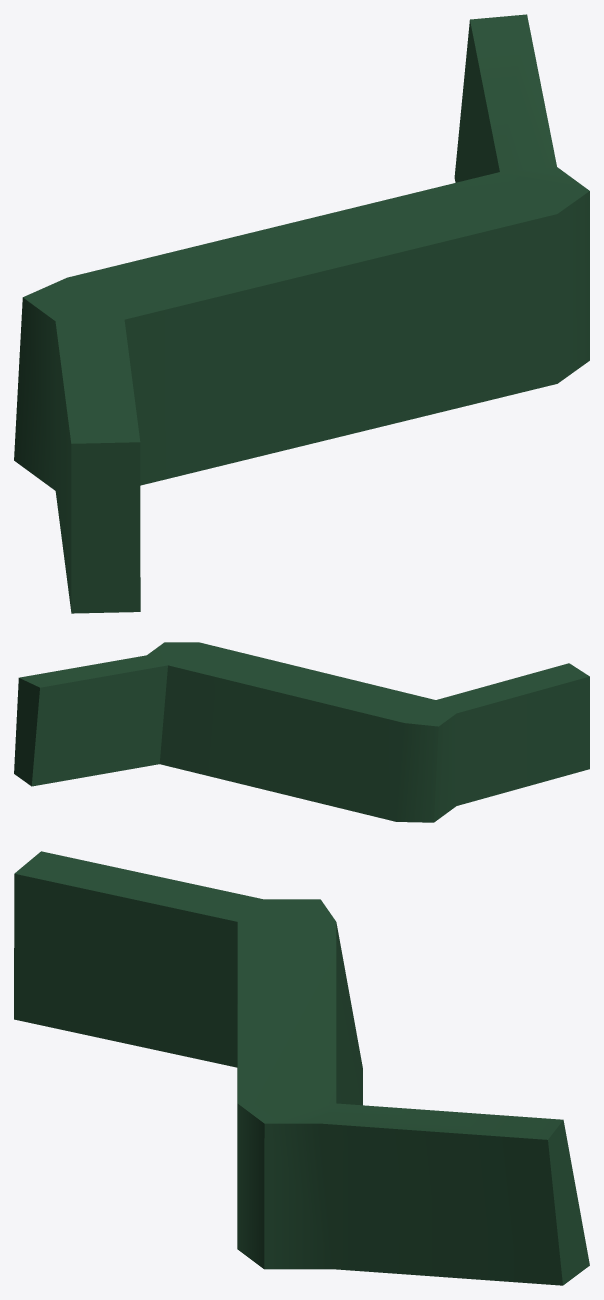
Rendered from wall6.fbx.
3 views of the same model, one above another, from view 1: azimuth 30°, elevation 25°; view 2: azimuth 150°, elevation 25°; view 3: azimuth 270°, elevation 25° (orthographic). The views are drawn at different scales.
Parts seen in each view (by area): view 1: wall6; view 2: wall6; view 3: wall6.
Part boxes in pixels (bbox=[...]): wall6: bbox=[14, 14, 589, 613]; wall6: bbox=[14, 642, 589, 822]; wall6: bbox=[14, 851, 589, 1285].
Size of the model in its own units: 359 by 91.7 by 278.
